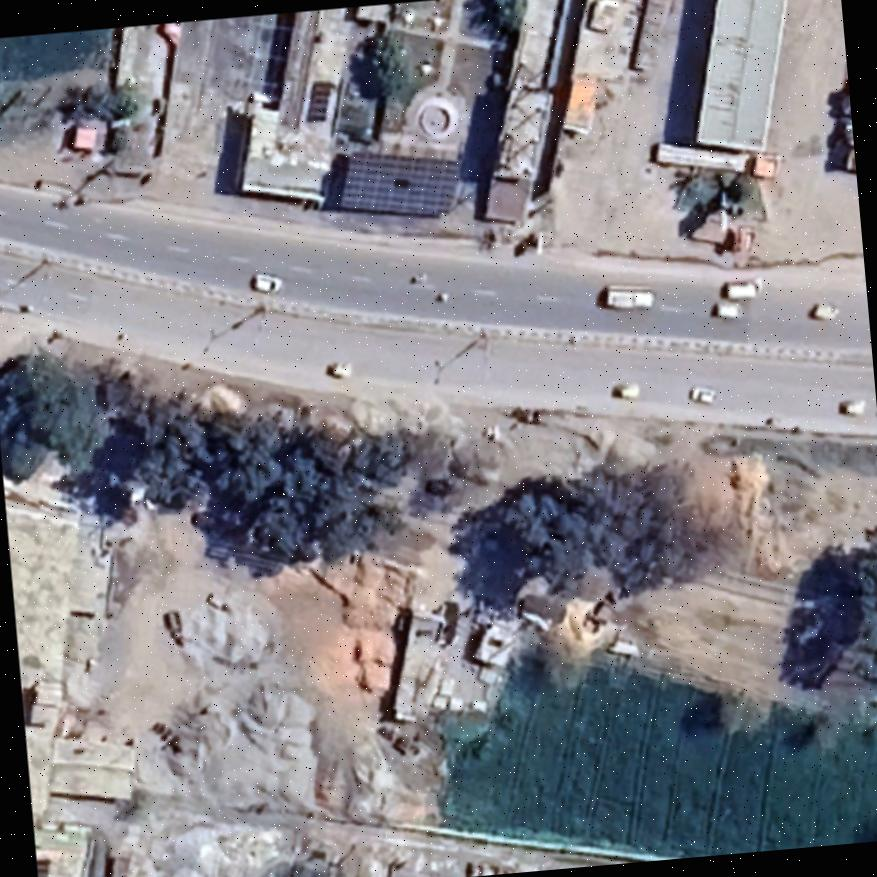Solarpanel: (325, 134, 470, 230), (296, 74, 339, 126)
